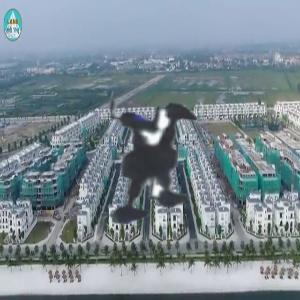drone: (21, 33, 279, 291)
